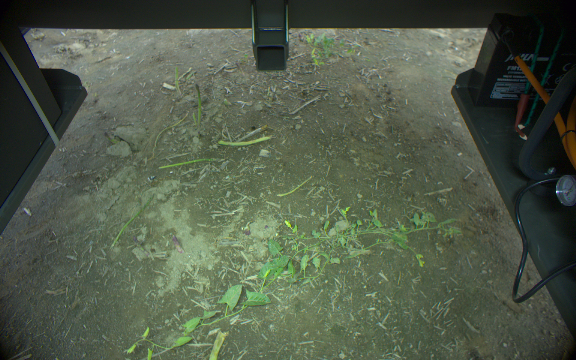aspa: (112, 191, 156, 247), (276, 174, 314, 199), (159, 157, 219, 168), (208, 329, 228, 360), (216, 133, 272, 144), (194, 83, 203, 126), (130, 237, 149, 257), (169, 233, 185, 254), (172, 65, 180, 94)
